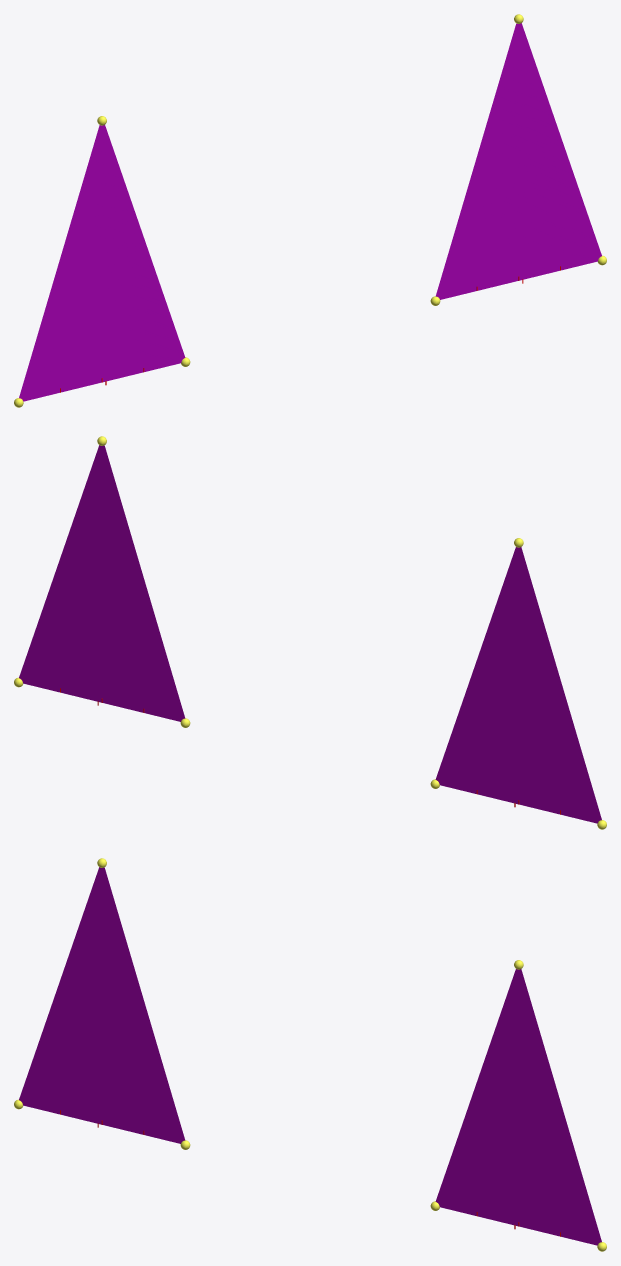
Rendered from congruent_triangles_from_8th_text.glb.
The picture shows the model from 3 angles, top to bottom: view 1: azimuth 30°, elevation 25°; view 2: azimuth 150°, elevation 25°; view 3: azimuth 330°, elevation 25°; orthographic projection.
Visible parts, largest first — view 1: Triangle_ABC, Triangle_PQR; view 2: Triangle_ABC, Triangle_PQR; view 3: Triangle_PQR, Triangle_ABC.
Boxes of the visible parts, x1,y1,x2,y2 form: Triangle_ABC: (435, 23, 601, 299); Triangle_PQR: (19, 125, 185, 401); Triangle_ABC: (19, 445, 185, 721); Triangle_PQR: (435, 547, 601, 823); Triangle_PQR: (19, 867, 185, 1143); Triangle_ABC: (435, 969, 601, 1245).
Size of the model in its own units: 7.1 by 3.1 by 0.165.
